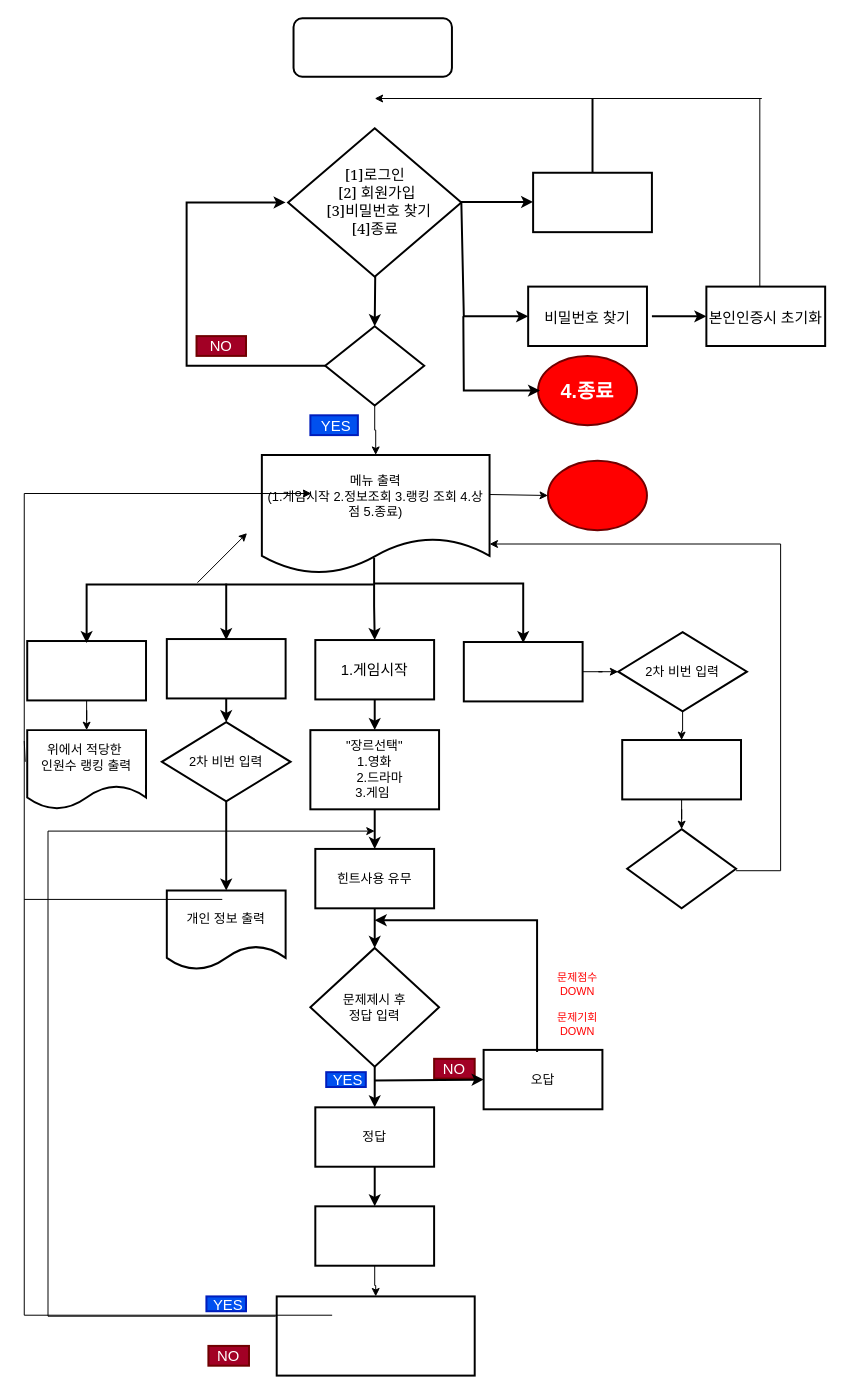
This 843x1393 diagram has some shape labels left out. The shapes that lost their labels are listed below. From the top down, each one's centre as x and y in pixels, then its label:
[372,47]: START
[592,202]: 회원가입
[374,365]: LOGIN
[596,495]: 5.종료
[86,670]: 3.랭킹조회
[225,668]: 2.정보조회
[522,671]: 4.상점
[681,769]: 아이템 구매
[681,868]: 계속 사용할지 판단
[374,1235]: POINT획득
[375,1335]: "계속 하시겠습니까?" (YES or No)
